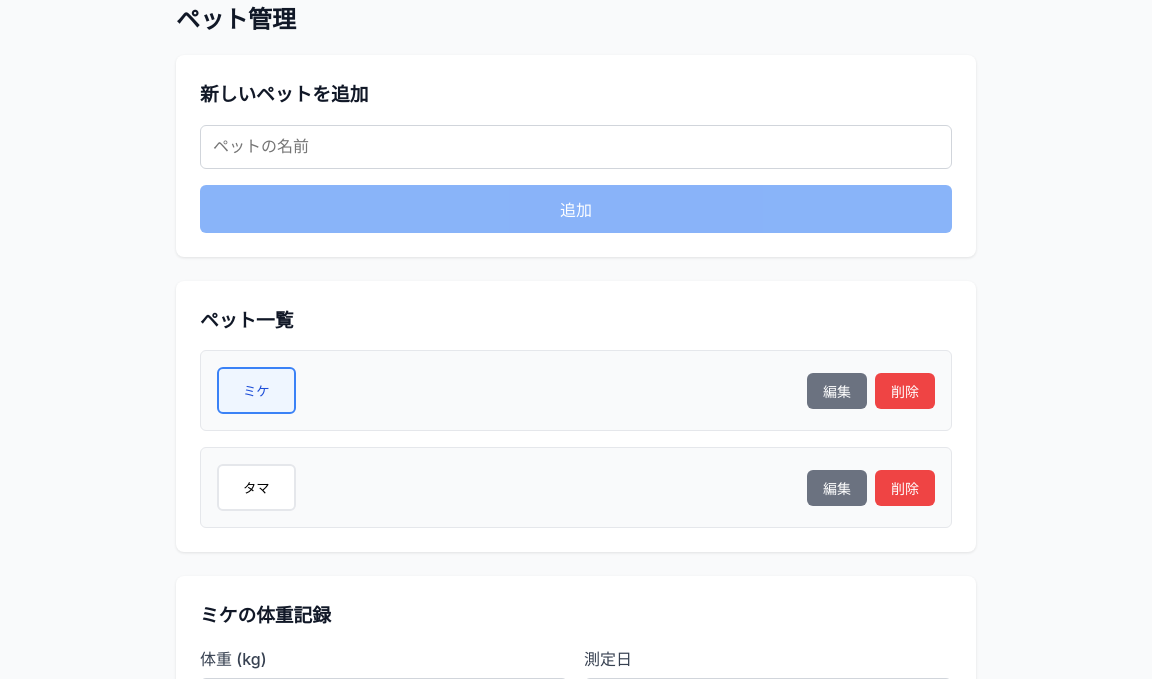
it: PetManagement › Pet List Display › should switch selected pet when clicking on pet button
expect the button "ミケ" is shown: met, box [217,367,296,414]
Click the button "タマ".
click(256, 488)  # box [217,464,296,511]
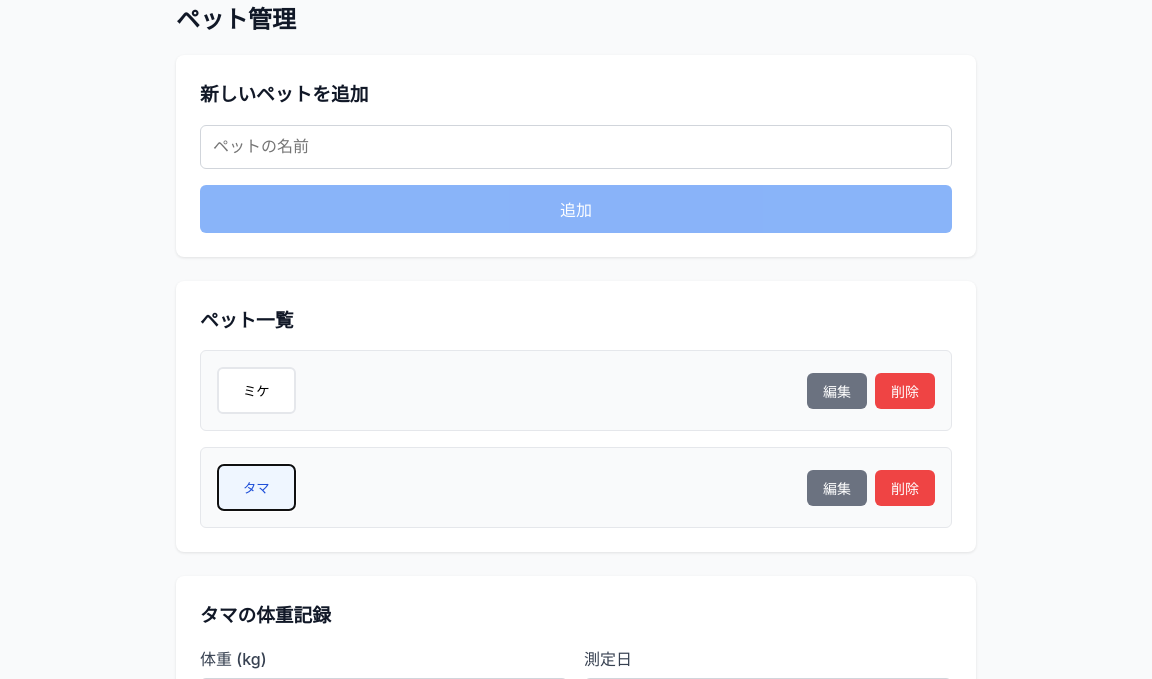
expect the heading "タマの体重記録" is shown: met, box [200,604,331,627]
